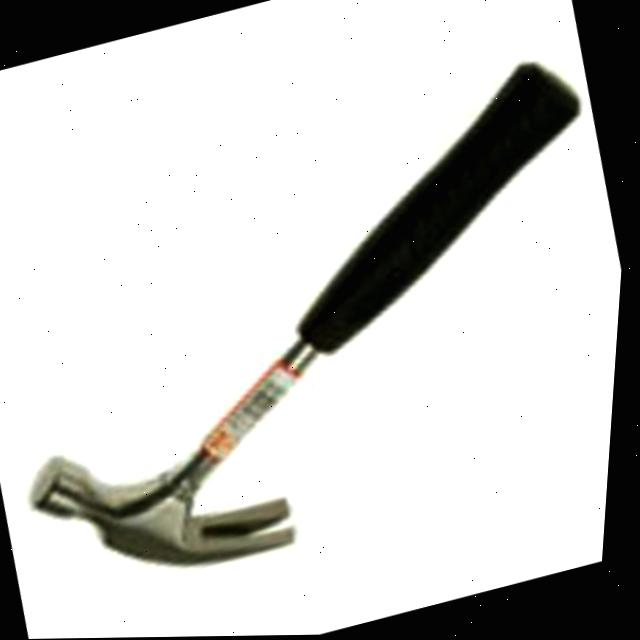hammer: (0, 37, 638, 632)
